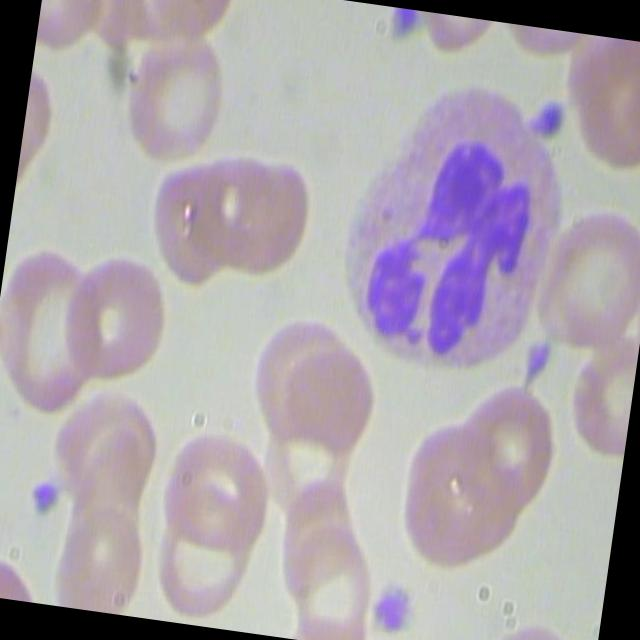Platelets: (366, 578, 418, 640), (526, 91, 576, 145), (518, 334, 564, 389), (29, 475, 69, 521), (384, 6, 426, 44)
RBC: (0, 238, 122, 422), (154, 410, 286, 558), (118, 25, 235, 166), (60, 245, 177, 386), (454, 376, 570, 518), (144, 497, 261, 631), (210, 154, 326, 286), (263, 336, 382, 461), (538, 203, 640, 345), (565, 33, 640, 174)
WBC: (307, 60, 584, 385)
